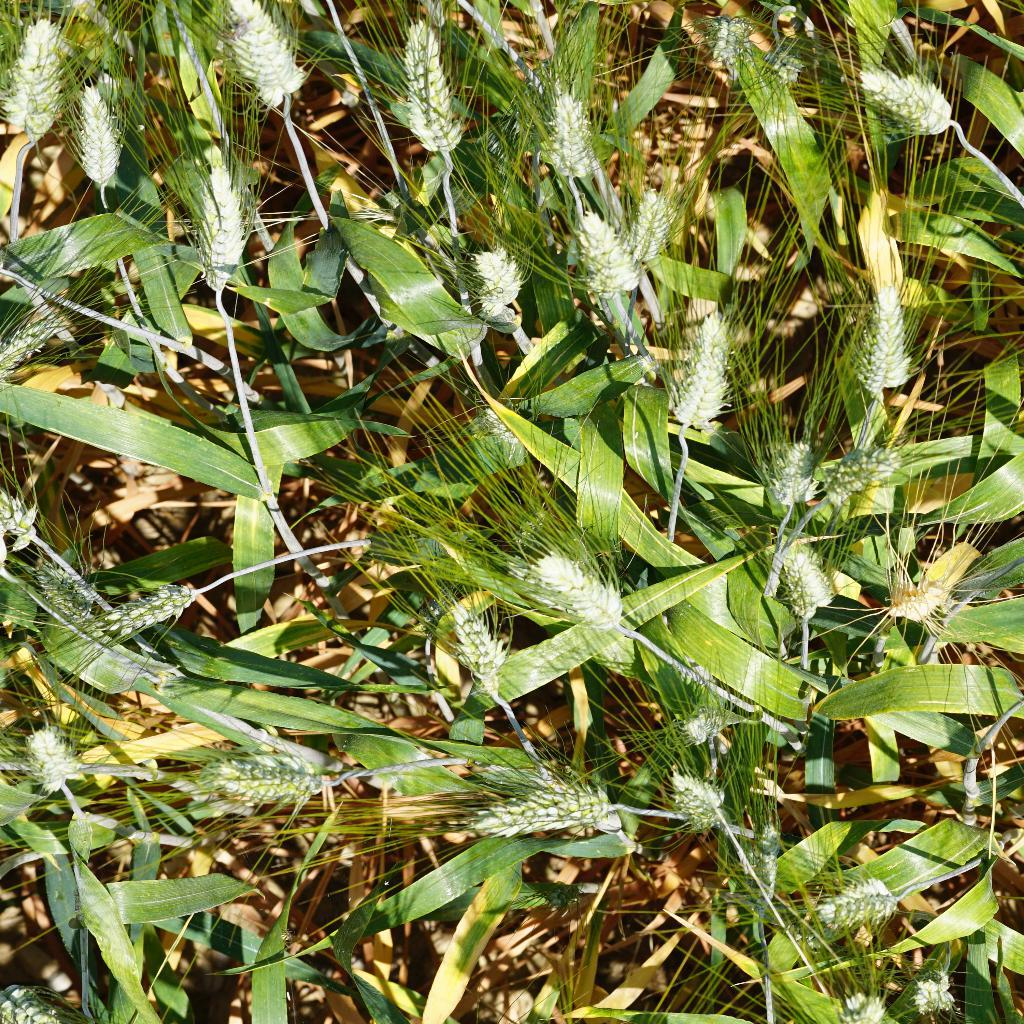0-0: (642, 306, 739, 456), (164, 146, 258, 296), (844, 253, 927, 418), (447, 763, 621, 841), (524, 535, 635, 649), (841, 52, 956, 152), (397, 11, 470, 168), (216, 0, 311, 119), (195, 744, 337, 813), (429, 580, 508, 701), (530, 74, 609, 191), (19, 552, 116, 639), (93, 582, 205, 649), (64, 82, 127, 194), (452, 238, 523, 336), (564, 200, 632, 302), (12, 709, 90, 796), (0, 303, 73, 393), (821, 433, 901, 515), (770, 546, 847, 631), (8, 18, 59, 144), (463, 400, 538, 484), (811, 866, 899, 935), (691, 0, 758, 89), (620, 187, 688, 265), (752, 441, 819, 519), (751, 34, 810, 120), (662, 762, 736, 829), (744, 808, 785, 918), (881, 557, 946, 626), (0, 488, 62, 559), (523, 867, 588, 922), (911, 968, 974, 1023), (664, 698, 724, 746), (408, 585, 465, 632), (506, 499, 553, 553)
